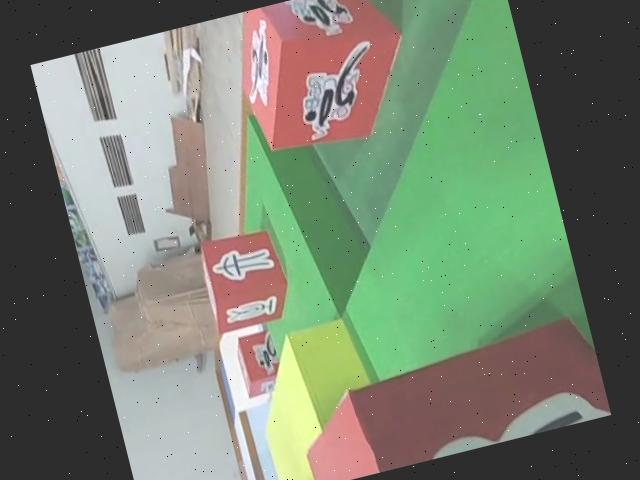R1: (221, 0, 419, 164), (230, 329, 292, 397)
R2 Fake: (283, 306, 611, 480), (191, 225, 295, 336)
